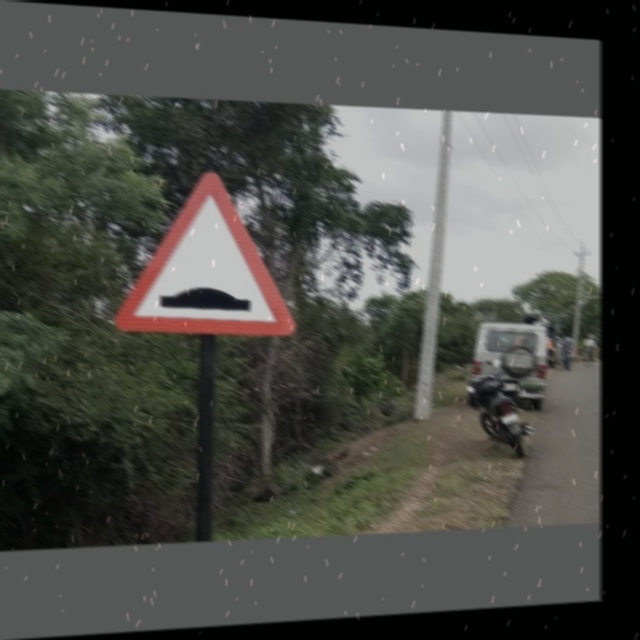Dangerous_Dip: (120, 166, 292, 338)
